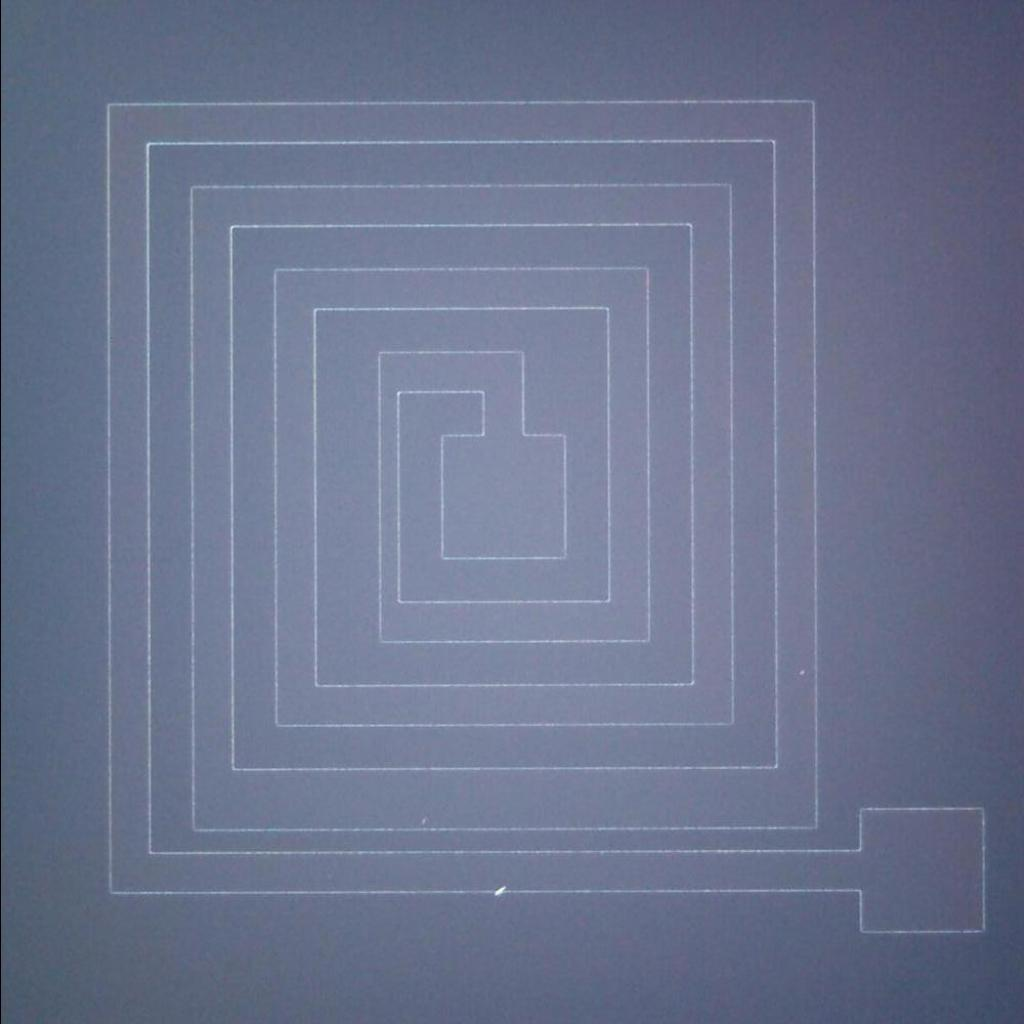dot: (789, 658, 813, 690)
fat circuit: (176, 762, 824, 838)
spot: (484, 877, 514, 903)
thin circuit: (364, 339, 411, 655)
